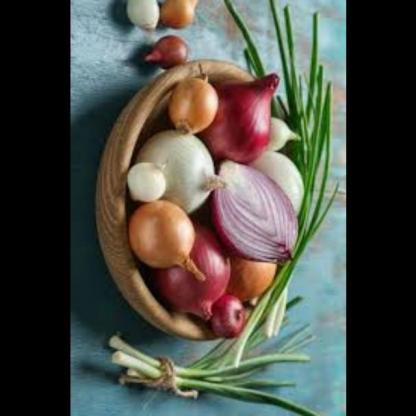onion: (210, 152, 300, 267), (159, 216, 235, 322), (211, 59, 284, 165), (140, 132, 229, 209), (128, 199, 207, 283), (223, 244, 282, 309), (256, 142, 314, 208), (167, 73, 220, 139), (115, 145, 175, 201), (252, 113, 304, 157), (210, 291, 244, 343), (144, 36, 192, 69), (120, 1, 168, 30), (160, 1, 201, 30)
